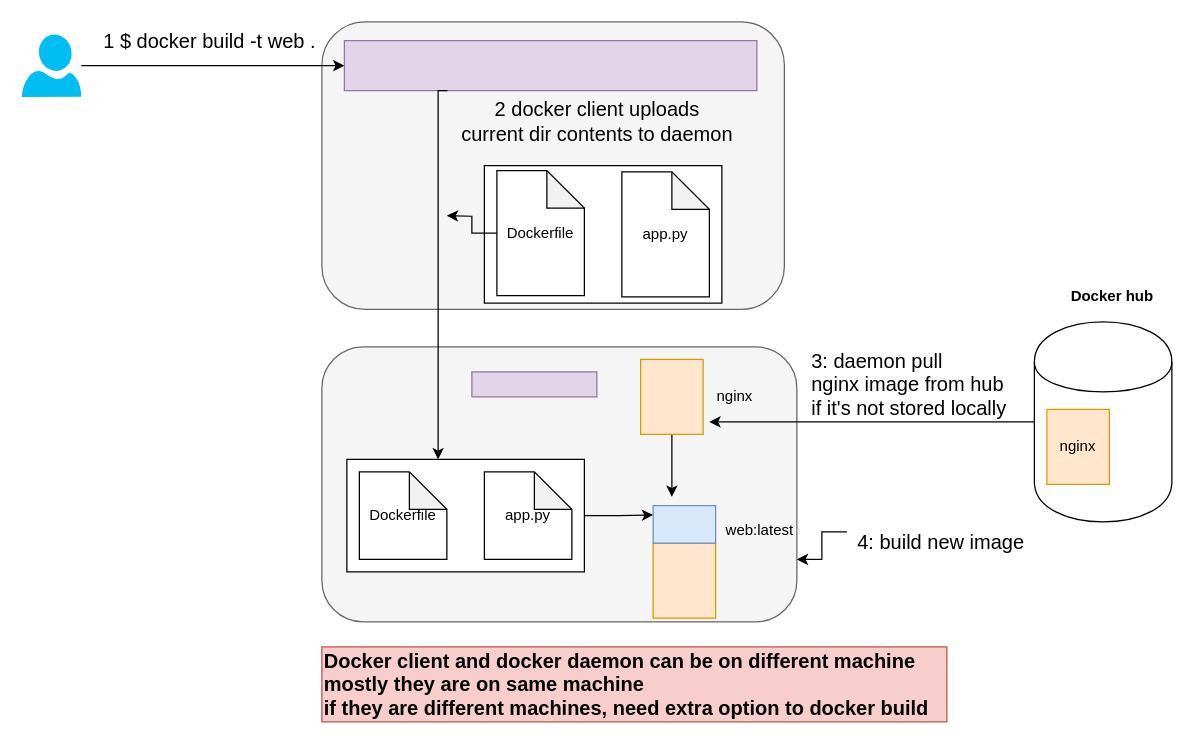
Some shapes in this 1194 by 744 pixel diagram are drawn without their labels. The box of each missing label's shape, as (x1, y1, x2, y2) in pixels:
docker client: (343, 39, 757, 91)
Docker daemon: (471, 371, 597, 397)
